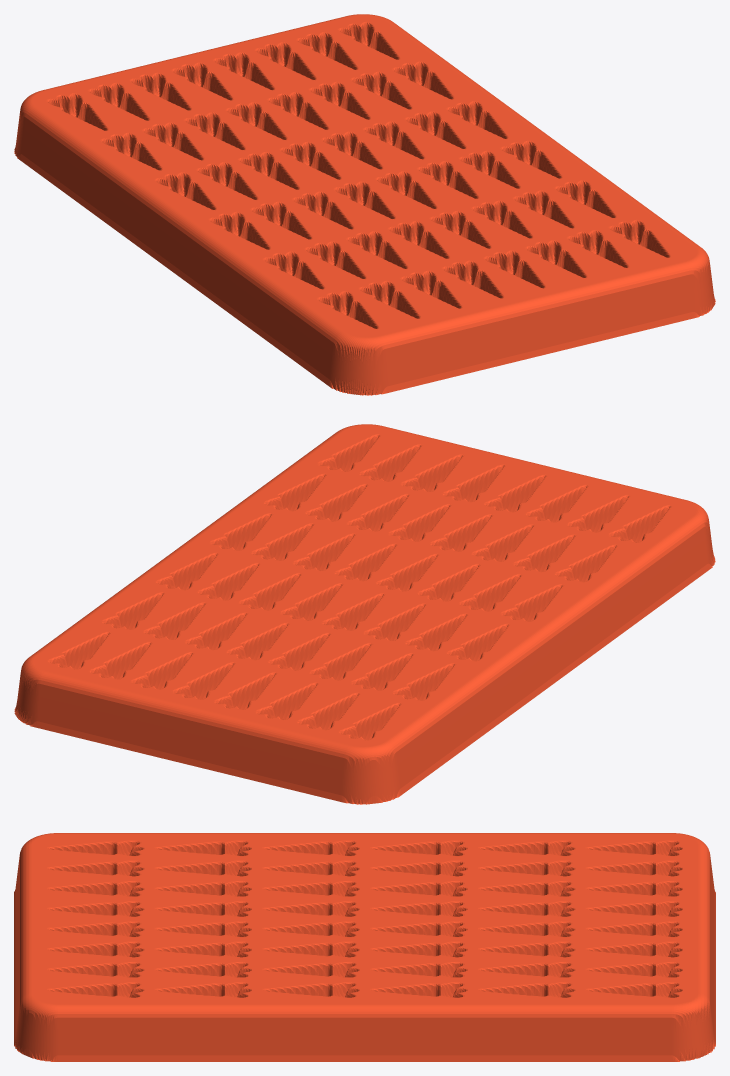
File: mold.glb
3 renders of one model, top to bottom at view 1: azimuth 30°, elevation 25°; view 2: azimuth 150°, elevation 25°; view 3: azimuth 270°, elevation 25°, orthographic.
Visible parts, largest first — view 1: geometry_0; view 2: geometry_0; view 3: geometry_0.
Part boxes in pixels (x1=…): geometry_0: x1=14, y1=14, x2=715, y2=395; geometry_0: x1=14, y1=424, x2=715, y2=804; geometry_0: x1=14, y1=833, x2=715, y2=1061.
Bounding box in the file's own units: 0.0902 × 0.0114 × 0.1443.
